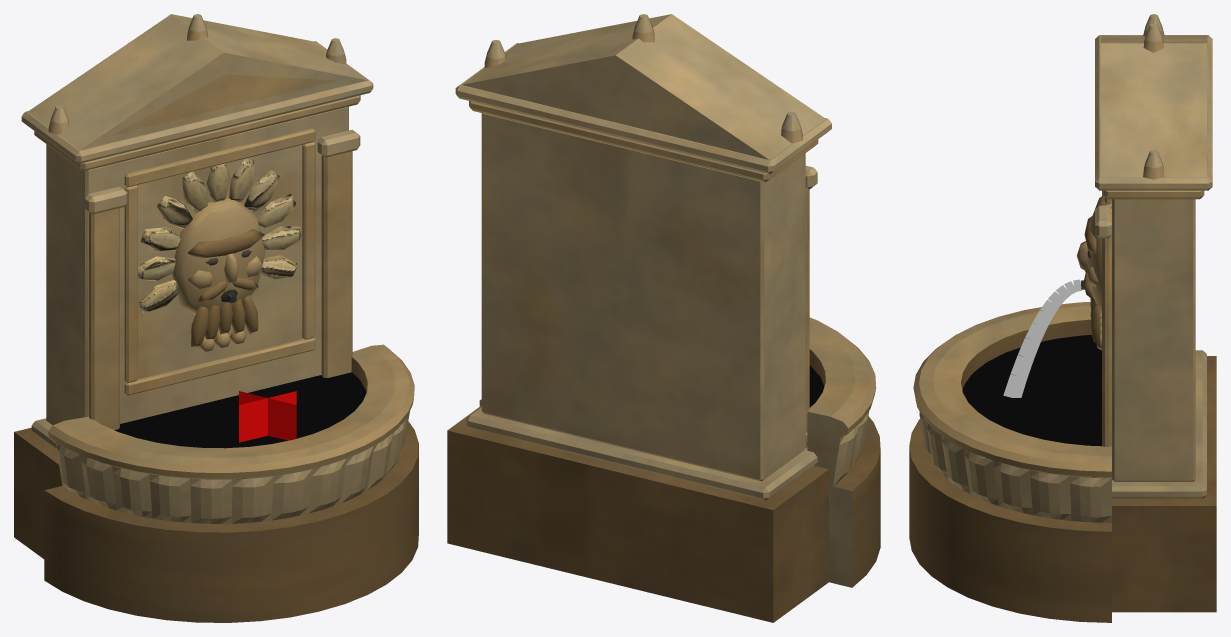
Rendered from mascherone.glb.
3 renders of one model, left to right at view 1: azimuth 30°, elevation 25°; view 2: azimuth 150°, elevation 25°; view 3: azimuth 270°, elevation 25°, orthographic. The views are drawn at different scales.
Parts seen in each view (by area): view 1: props_0_0, FountainWater; view 2: props_0_0; view 3: props_0_0, FountainWater.
Boxes of the visible parts, x1,y1,x2,y2 form: props_0_0: [14, 14, 418, 622]; FountainWater: [114, 372, 366, 448]; props_0_0: [447, 14, 880, 622]; props_0_0: [909, 14, 1216, 622]; FountainWater: [962, 279, 1101, 446].
Bounding box in the file's own units: 2.9 × 4.04 × 2.2.
Materials: 4 (2 with a texture image).
